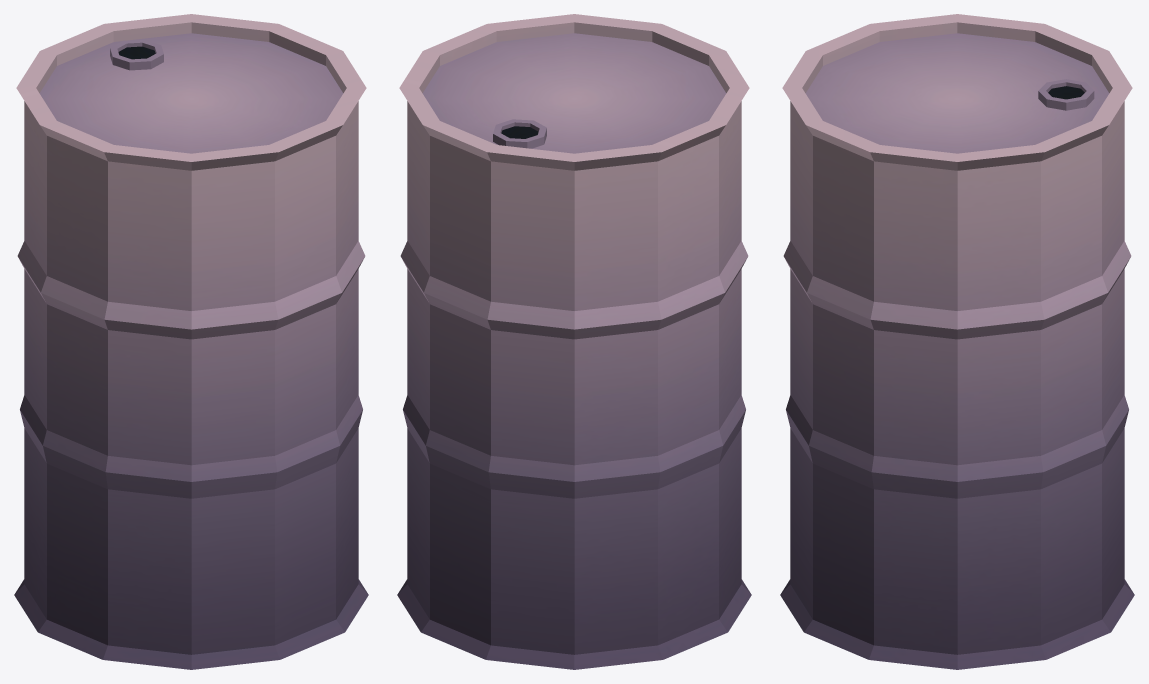
Rendered from Powerup_Oil_Barrel.fbx.
3 views of the same model, side by side, from view 1: azimuth 30°, elevation 25°; view 2: azimuth 150°, elevation 25°; view 3: azimuth 270°, elevation 25° (orthographic).
Parts seen in each view (by area): view 1: Oil Barrel; view 2: Oil Barrel; view 3: Oil Barrel.
Part boxes in pixels (x1,y1,x2,y2): Oil Barrel: (14, 14, 368, 669); Oil Barrel: (397, 14, 751, 669); Oil Barrel: (780, 14, 1134, 669).
Size of the model in its own units: 77.32 by 122 by 77.32.
